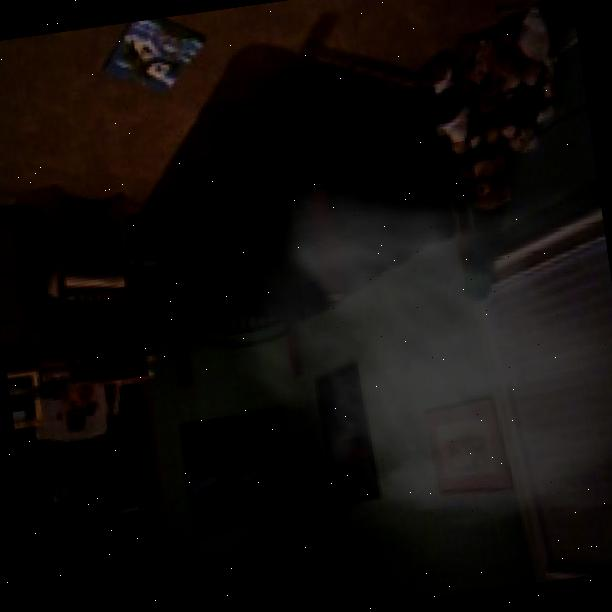smoke: (196, 146, 612, 561)
